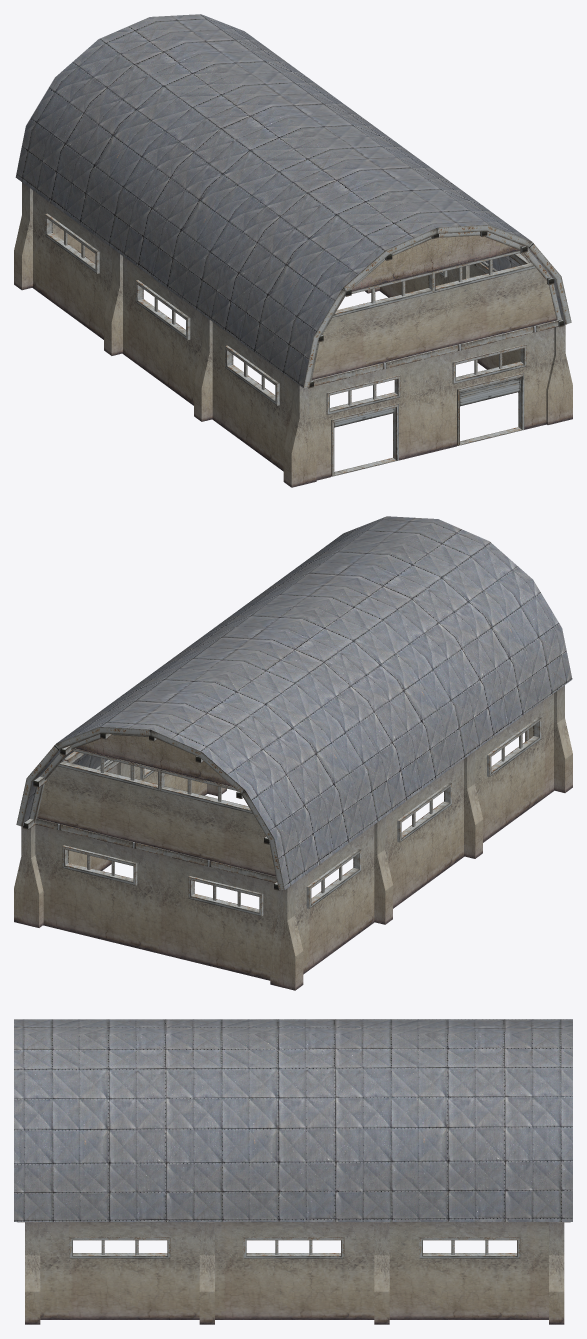
Rendered from ind6_hall1_lod.dae.
3 renders of one model, top to bottom at view 1: azimuth 30°, elevation 25°; view 2: azimuth 150°, elevation 25°; view 3: azimuth 270°, elevation 25°, orthographic. The views are drawn at different scales.
Parts seen in each view (by area): view 1: Mesh; view 2: Mesh; view 3: Mesh.
Boxes of the visible parts, box(x1,y1,x2,y2) form: Mesh: box(14, 14, 572, 487); Mesh: box(14, 516, 572, 990); Mesh: box(14, 1019, 572, 1324).
Bounding box in the file's own units: 23.15 × 18.14 × 41.02.
